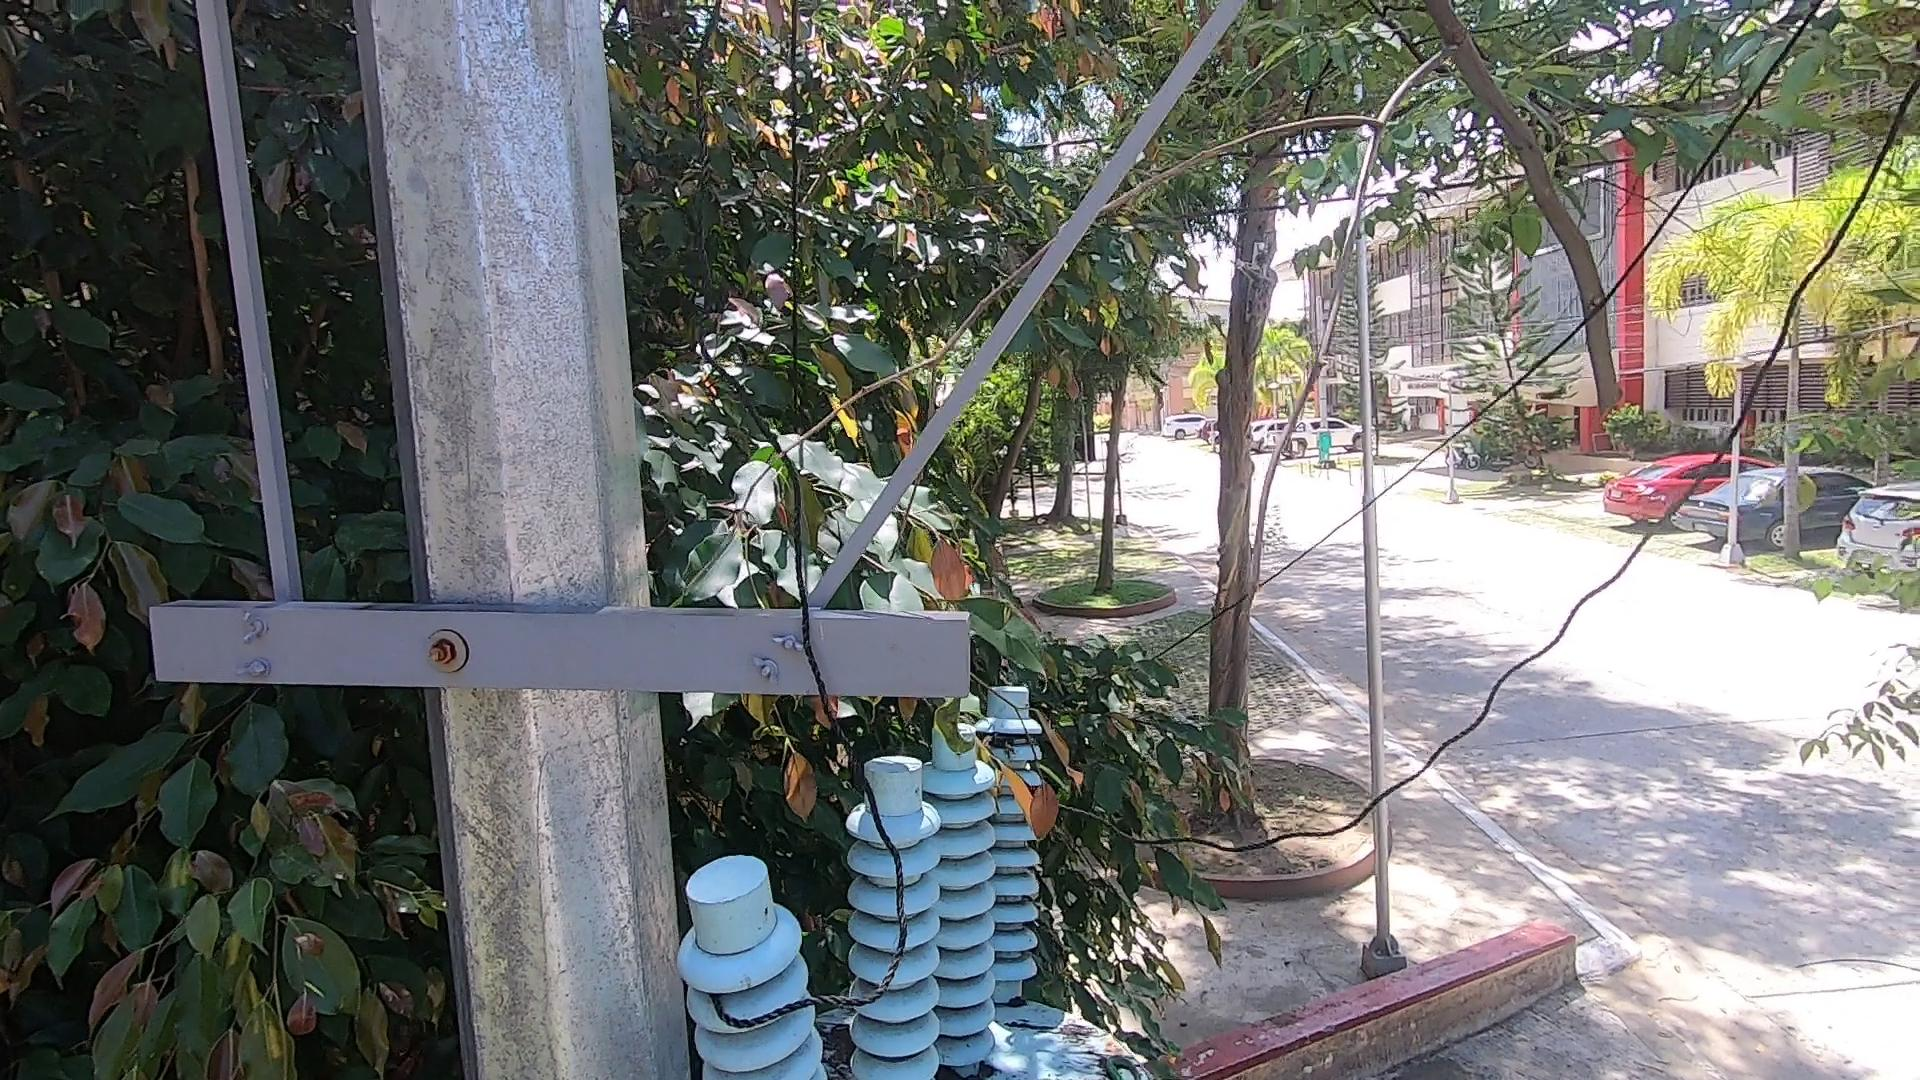tree branch: (649, 1, 1706, 700)
